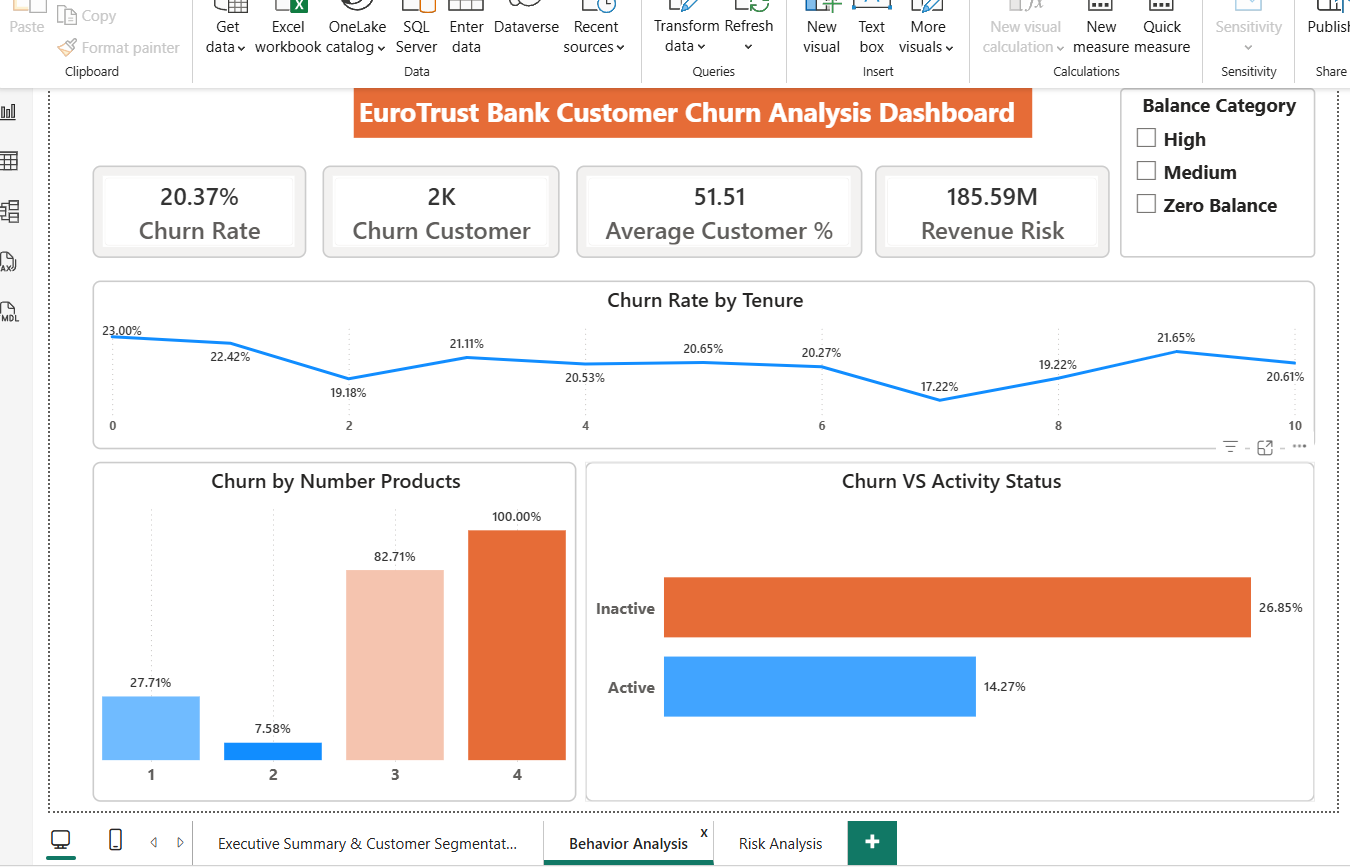

The dashboard page shown, as its layout file describes it:
{"tool":"powerbi","page":{"name":"Behavior Analysis","canvas":[1280,720],"ordinal":1},"visuals":[{"type":"textbox","box":[302.3,0,675.5,49.8],"z":0},{"type":"cardVisual","fields":{"Data":["Churn_Analysis.Churn Rate"]},"box":[42.3,77.1,212.7,92.1],"z":1000},{"type":"cardVisual","fields":{"Data":["Churn_Analysis.Average Active customer"]},"box":[523.7,77.1,284.9,92.1],"z":2000},{"type":"cardVisual","fields":{"Data":["Sum(Churn_Analysis.Exited)"]},"box":[271.2,77.1,236.4,92.1],"z":3000},{"type":"cardVisual","fields":{"Data":["Churn_Analysis.Revenue at Risk"]},"box":[821,77.1,233.9,92.1],"z":4000},{"type":"clusteredColumnChart","title":"Churn  by Number Products","fields":{"Category":["Churn_Analysis.Number_Of_Products"],"Y":["Churn_Analysis.Churn Rate"]},"box":[42.3,371.9,481.4,338.4],"z":5000},{"type":"lineChart","fields":{"Category":["Churn_Analysis.Tenure"],"Y":["Churn_Analysis.Churn Rate"]},"box":[42.3,191.6,1216.6,167.9],"z":6000},{"type":"barChart","title":"Churn VS Activity Status","fields":{"Y":["Churn_Analysis.Churn Rate"],"Category":["Churn_Analysis.Activity_Status"]},"box":[532.4,371.9,726.5,338.4],"z":7000},{"type":"slicer","title":"Balance Category","fields":{"Values":["Churn_Analysis.Balance_Group"]},"box":[1064.8,16.2,194.1,153],"z":8000}]}

Visuals, with their boxes on the page's 1280x720 design canvas (x1, y1, x2, y2). These are canvas units, not pixel positions in the 1350x867 screenshot, which may show the page scaled, cropped or inside an application window:
textbox: l=302, t=0, r=978, b=50
cardVisual - Churn_Analysis.Churn Rate: l=42, t=77, r=255, b=169
cardVisual - Churn_Analysis.Average Active customer: l=524, t=77, r=809, b=169
cardVisual - Sum(Churn_Analysis.Exited): l=271, t=77, r=508, b=169
cardVisual - Churn_Analysis.Revenue at Risk: l=821, t=77, r=1055, b=169
"Churn  by Number Products" clusteredColumnChart: l=42, t=372, r=524, b=710
lineChart - Churn_Analysis.Tenure x Churn_Analysis.Churn Rate: l=42, t=192, r=1259, b=360
"Churn VS Activity Status" barChart: l=532, t=372, r=1259, b=710
"Balance Category" slicer: l=1065, t=16, r=1259, b=169
